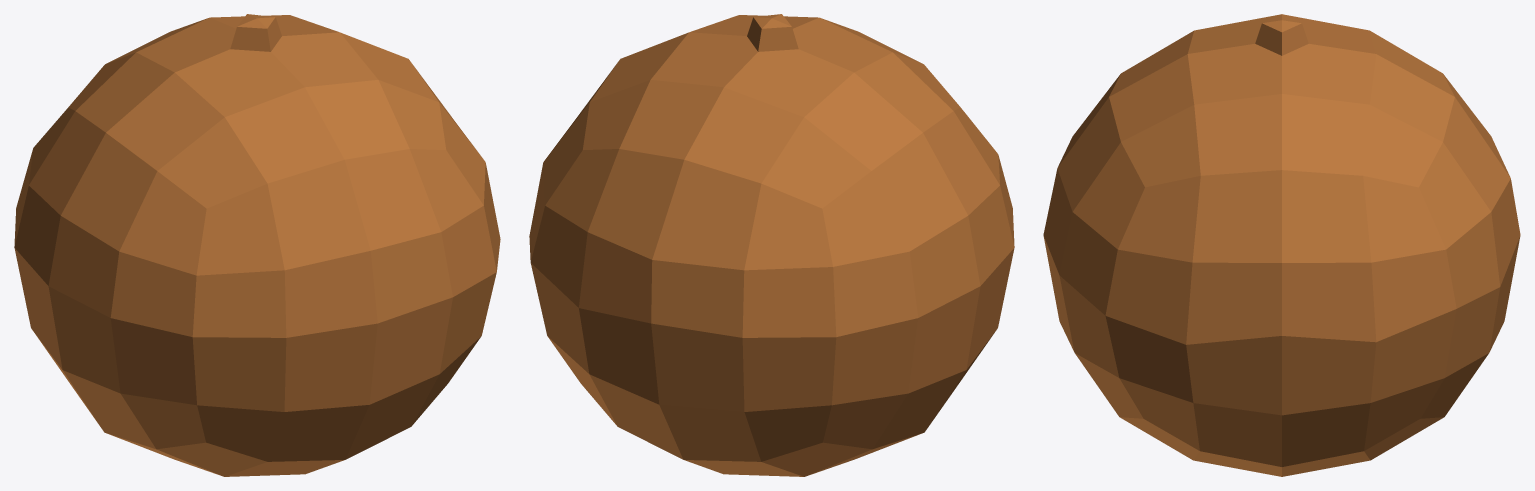
The model's file is Orange_Crop.gltf.
3 renders of one model, left to right at view 1: azimuth 30°, elevation 25°; view 2: azimuth 150°, elevation 25°; view 3: azimuth 270°, elevation 25°, orthographic.
Visible parts, largest first — view 1: Orange_Crop; view 2: Orange_Crop; view 3: Orange_Crop.
Boxes of the visible parts, <box> form: Orange_Crop: <box>14,14,500,476</box>; Orange_Crop: <box>529,14,1014,476</box>; Orange_Crop: <box>1043,14,1520,476</box>.
Bounding box in the file's own units: 0.1513 × 0.1508 × 0.1513.
